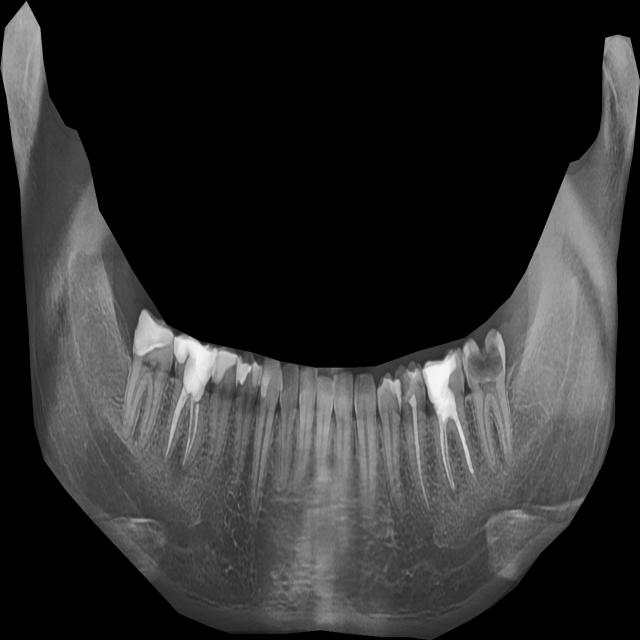mandibula: (0, 1, 640, 640)
